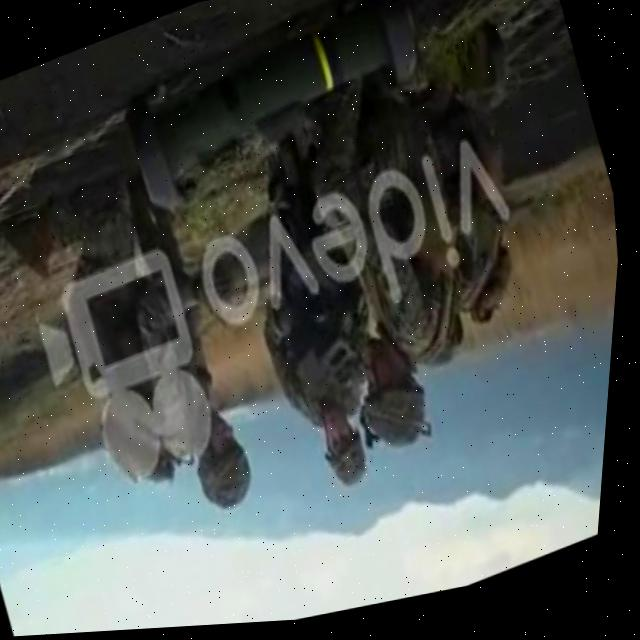rocket: (101, 0, 454, 227)
